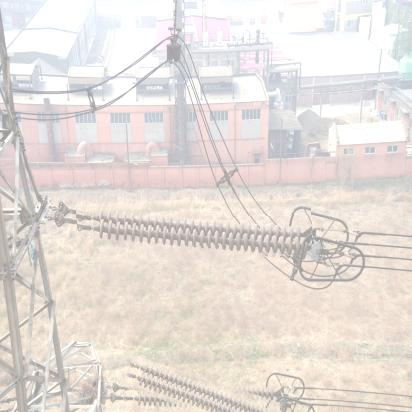insulator: (78, 202, 314, 262), (123, 367, 281, 412)
